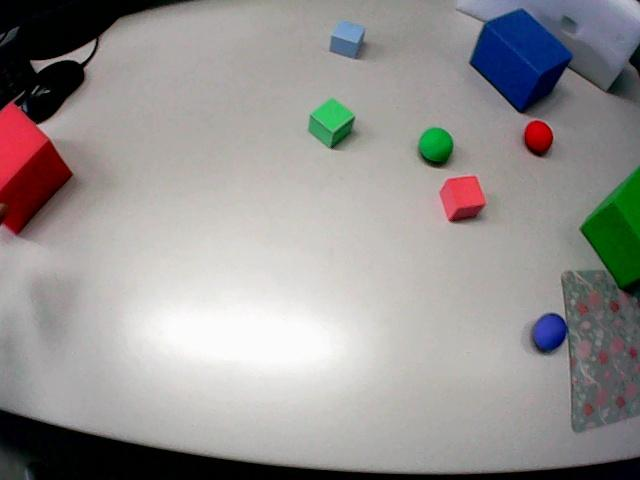blue_block: (470, 9, 572, 111), (330, 21, 364, 57)
red_block: (0, 103, 71, 233), (440, 176, 485, 220)
